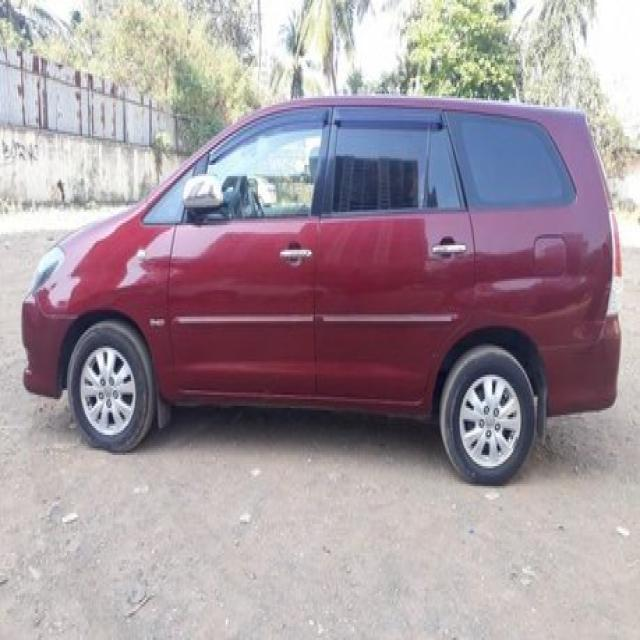light_vehicle: (20, 96, 624, 486)
